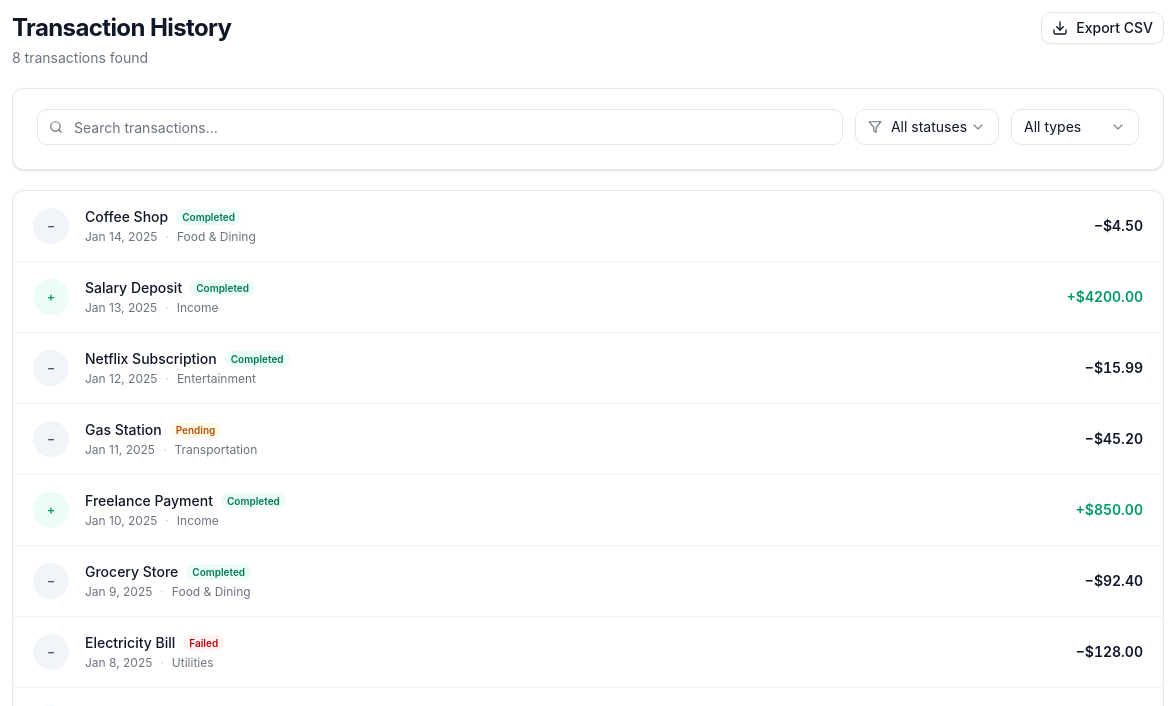
Test: TransactionHistory › filters transactions by search term
Step 1. Type "Coffee" into the field with placeholder "Search transactions..." → (440, 127), box [37,109,843,145]
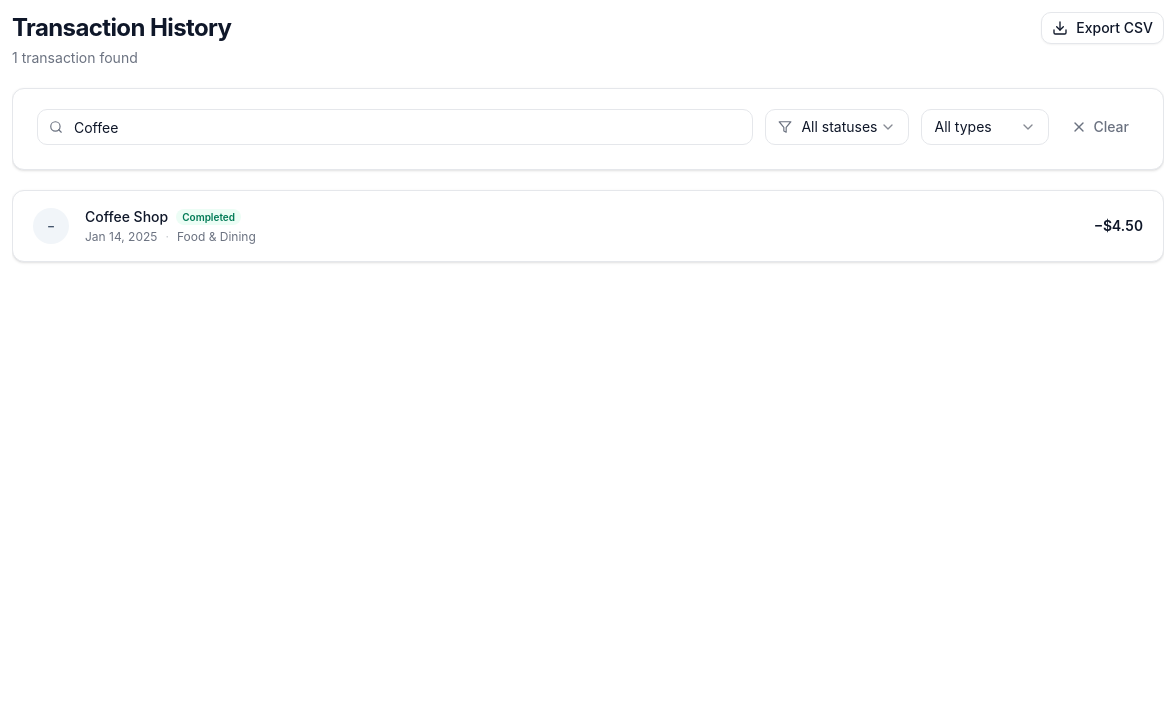
Expected: the text "Coffee Shop" is shown, [85,207,168,227]
Expected: the text "Salary Deposit" is gone
